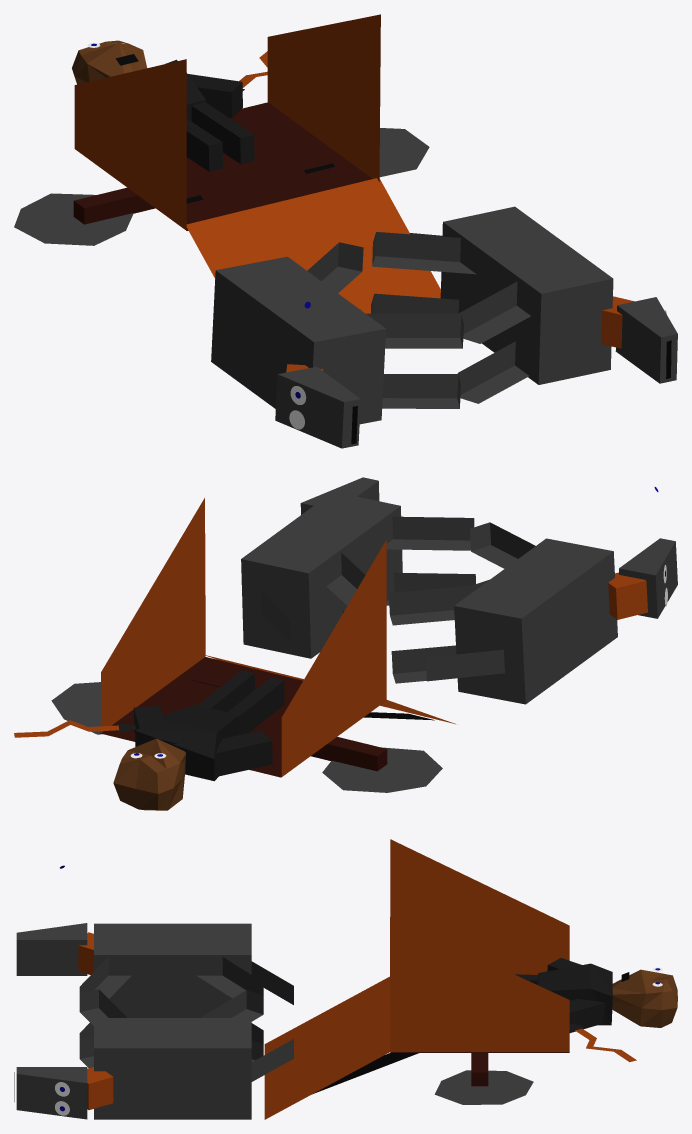
Rendered from heavychariot3d.obj.
3 renders of one model, top to bottom at view 1: azimuth 30°, elevation 25°; view 2: azimuth 150°, elevation 25°; view 3: azimuth 270°, elevation 25°, orthographic. The views are drawn at different scales.
Parts seen in each view (by area): view 1: Cube.006_Cube.009, Cube.015_Cube.017, Plane.005_Plane.006, Plane.004, Plane.003, Plane.002, Cube.021_Cube.023, Cube.014_Cube.016, Plane.007_Plane.008, Cube.009_Cube.010, Cube.018_Cube.020, Cube.019_Cube.021 (+11 smaller); view 2: Cube.015_Cube.017, Cube.006_Cube.009, Plane.003, Plane.004, Plane.002, Cube.001, Cube, Plane.007_Plane.008, Cube.012_Cube.014, Cube.021_Cube.023, Cube.017_Cube.019, Cube.003 (+14 smaller); view 3: Plane.004, Cube.006_Cube.009, Plane.003, Cube.015_Cube.017, Plane.005_Plane.006, Cube.021_Cube.023, Cube.014_Cube.016, Cube, Cube.001, Plane.006_Plane.007, Cube.017_Cube.019, Cube.009_Cube.010 (+9 smaller).
Boxes of the visible parts, x1,y1,x2,y2 form: Cube.006_Cube.009: [440, 206, 613, 384]; Cube.015_Cube.017: [211, 256, 385, 424]; Plane.005_Plane.006: [186, 178, 440, 313]; Plane.004: [267, 14, 380, 182]; Plane.003: [74, 59, 186, 230]; Plane.002: [186, 102, 372, 230]; Cube.021_Cube.023: [275, 366, 360, 448]; Cube.014_Cube.016: [615, 297, 677, 383]; Plane.007_Plane.008: [14, 193, 133, 245]; Cube.009_Cube.010: [372, 232, 476, 274]; Cube.018_Cube.020: [366, 313, 463, 348]; Cube.019_Cube.021: [382, 374, 460, 408]; Cube.015_Cube.017: [454, 538, 617, 704]; Cube.006_Cube.009: [241, 491, 402, 658]; Plane.003: [281, 540, 386, 776]; Plane.004: [101, 498, 205, 732]; Plane.002: [100, 657, 302, 777]; Cube.001: [135, 704, 239, 781]; Cube: [113, 738, 186, 810]; Plane.007_Plane.008: [322, 747, 442, 792]; Cube.012_Cube.014: [380, 516, 474, 550]; Cube.021_Cube.023: [619, 538, 677, 618]; Cube.017_Cube.019: [388, 584, 482, 625]; Cube.003: [216, 730, 272, 776]; Plane.004: [390, 917, 569, 1051]; Cube.006_Cube.009: [94, 1018, 251, 1119]; Plane.003: [390, 839, 569, 974]; Cube.015_Cube.017: [94, 923, 251, 1017]; Plane.005_Plane.006: [264, 976, 394, 1119]; Cube.021_Cube.023: [16, 923, 87, 975]; Cube.014_Cube.016: [16, 1067, 87, 1119]; Cube: [612, 969, 677, 1027]; Cube.001: [538, 963, 612, 1025]; Plane.006_Plane.007: [434, 1070, 533, 1104]; Cube.017_Cube.019: [197, 957, 263, 998]; Cube.009_Cube.010: [200, 990, 263, 1021].
Bounding box in the file's own units: 9.81 × 6.05 × 17.81.
